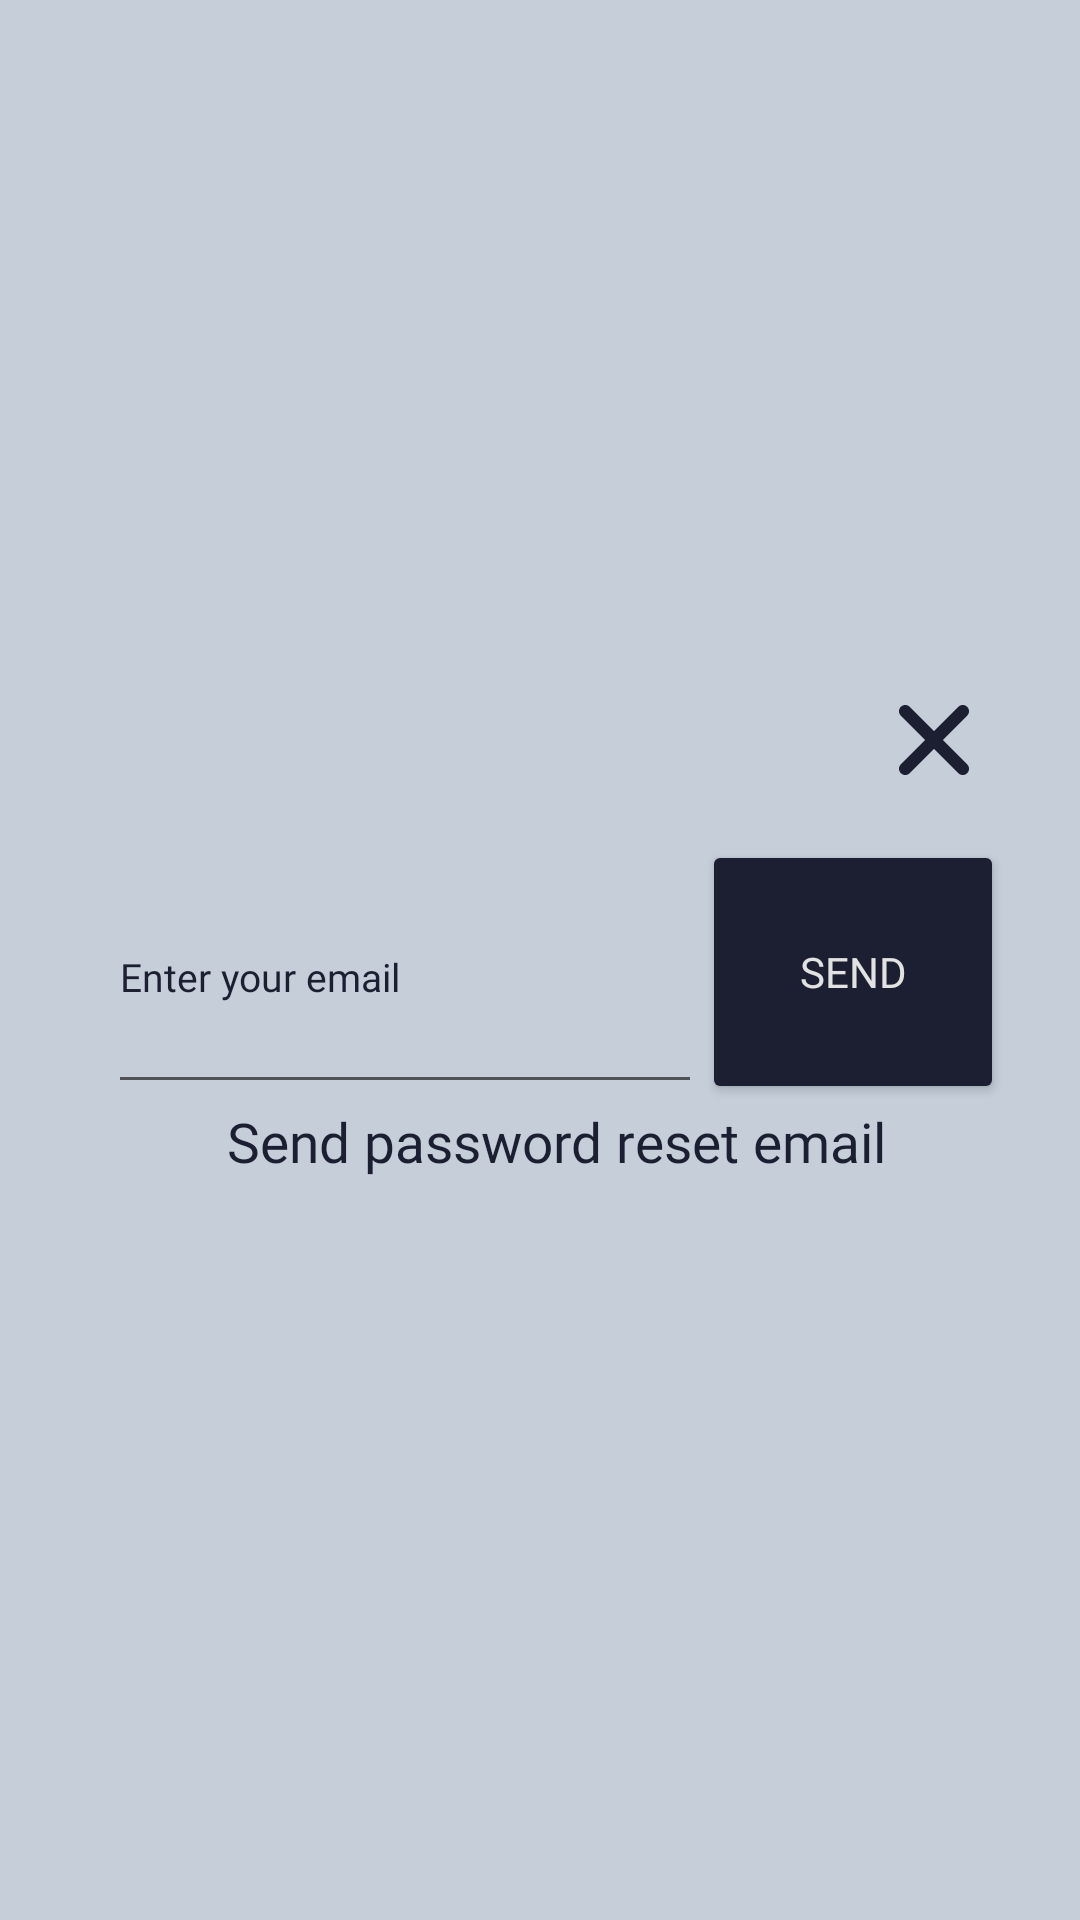

Icon bounding boxes for this 1080×1920 phone screenshot, format [x1,y1,x2,y2]:
cross: [899,705,969,775]
